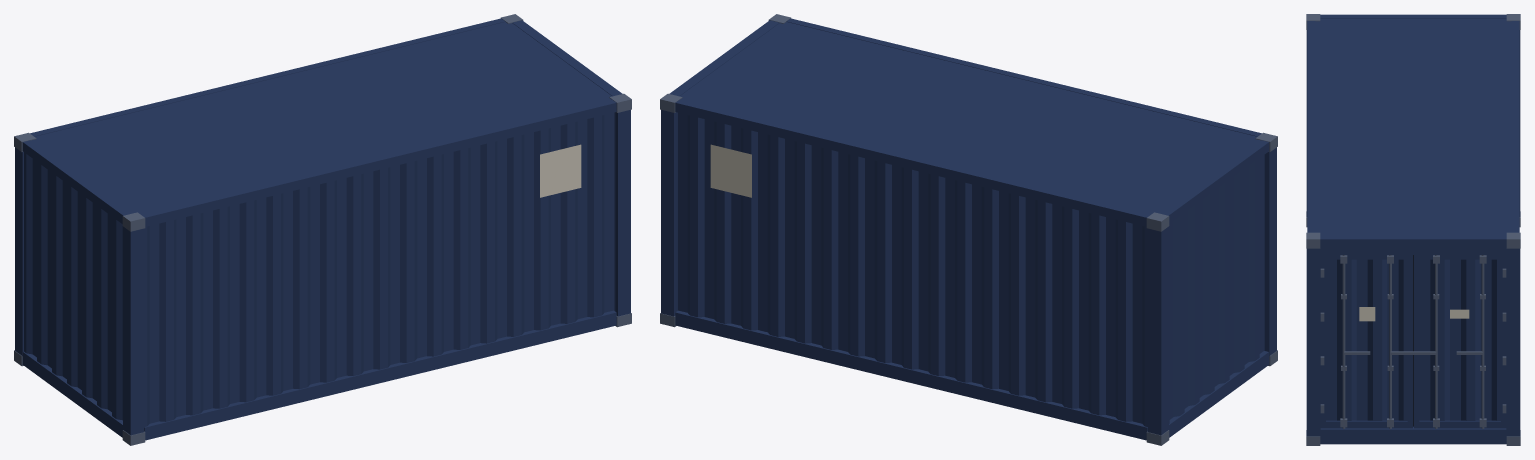
Rendered from port_container_20_navy.glb.
3 renders of one model, left to right at view 1: azimuth 30°, elevation 25°; view 2: azimuth 150°, elevation 25°; view 3: azimuth 270°, elevation 25°, orthographic. The views are drawn at different scales.
Visible parts, largest first — view 1: shell, stencil, hardware; view 2: shell, stencil, hardware; view 3: shell, hardware, warning.
Boxes of the visible parts, box(x1,y1,x2,y2) form: shell: box(15, 18, 630, 440); stencil: box(540, 144, 581, 197); hardware: box(14, 14, 631, 445); shell: box(661, 18, 1276, 440); stencil: box(710, 144, 751, 197); hardware: box(660, 14, 1277, 445); shell: box(1306, 14, 1520, 444); hardware: box(1306, 14, 1520, 445); warning: box(1359, 307, 1375, 321).
Size of the model in its own units: 6.06 by 2.59 by 2.44.
